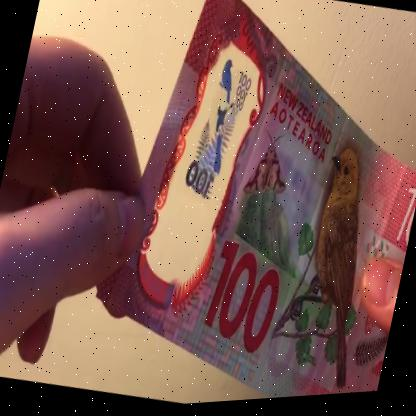100B: (176, 52, 262, 218)
